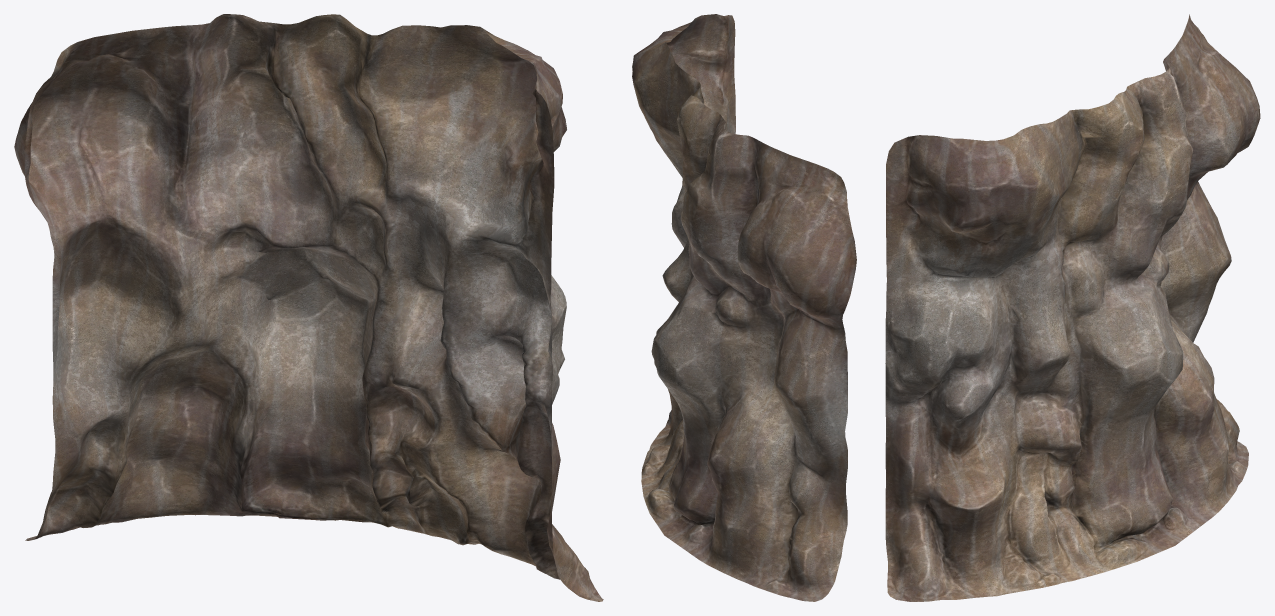
File: cave_ravine_wall_sand_01_convex.dae
3 renders of one model, left to right at view 1: azimuth 30°, elevation 25°; view 2: azimuth 150°, elevation 25°; view 3: azimuth 270°, elevation 25°, orthographic. The views are drawn at different scales.
Visible parts, largest first — view 1: wall_1_convex; view 2: wall_1_convex; view 3: wall_1_convex.
Part boxes in pixels (x1,y1,x2,y2): wall_1_convex: (14, 14, 603, 601); wall_1_convex: (632, 14, 856, 601); wall_1_convex: (885, 14, 1260, 601).
Size of what is drawn, in the model's own units: 3.25 by 4.11 by 3.08.
